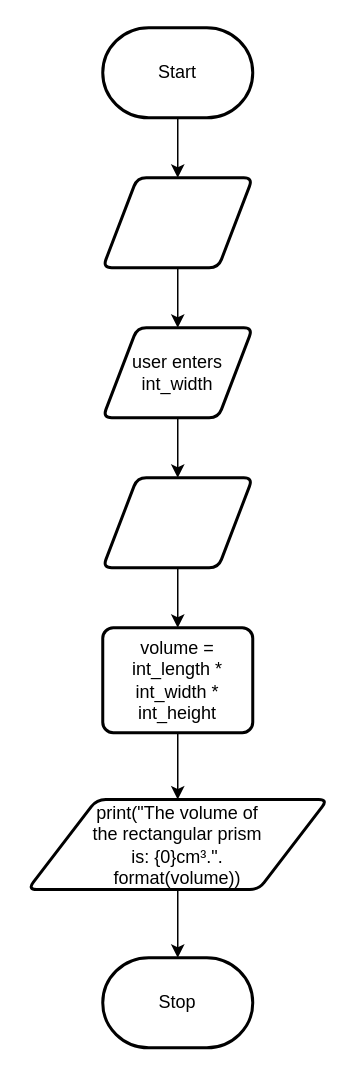
Some shapes in this 354 by 1074 pixel diagram are drawn without their labels. Here are the shapes that lost their labels. From the top down, the box of each, then its label:
(100, 176, 254, 268): user enters int_length
(100, 476, 254, 568): user enters int_height
